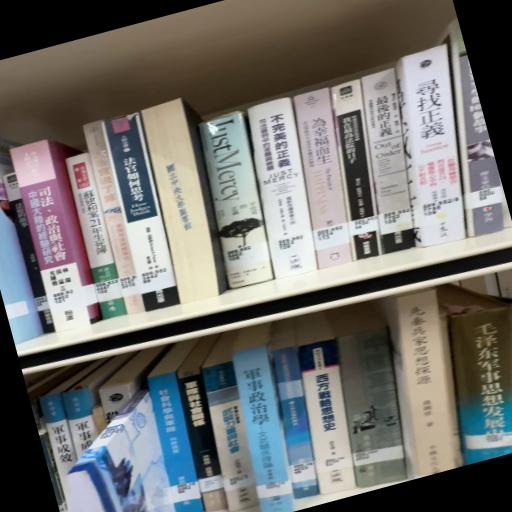backward: (135, 98, 247, 310)
book: (372, 48, 499, 256), (5, 137, 122, 340), (366, 291, 481, 481), (236, 97, 341, 284), (94, 115, 188, 319), (188, 111, 291, 296), (276, 88, 375, 272), (1, 109, 70, 343)
